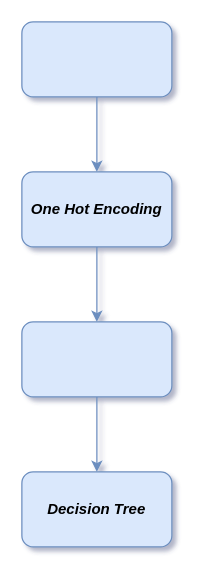
Image size: 201x576. Some labels were removed from this diagram. Each missing label, with the centre of its shape:
"Impute Missing Values" goes at [96,59].
"Scaling" goes at [96,359].
